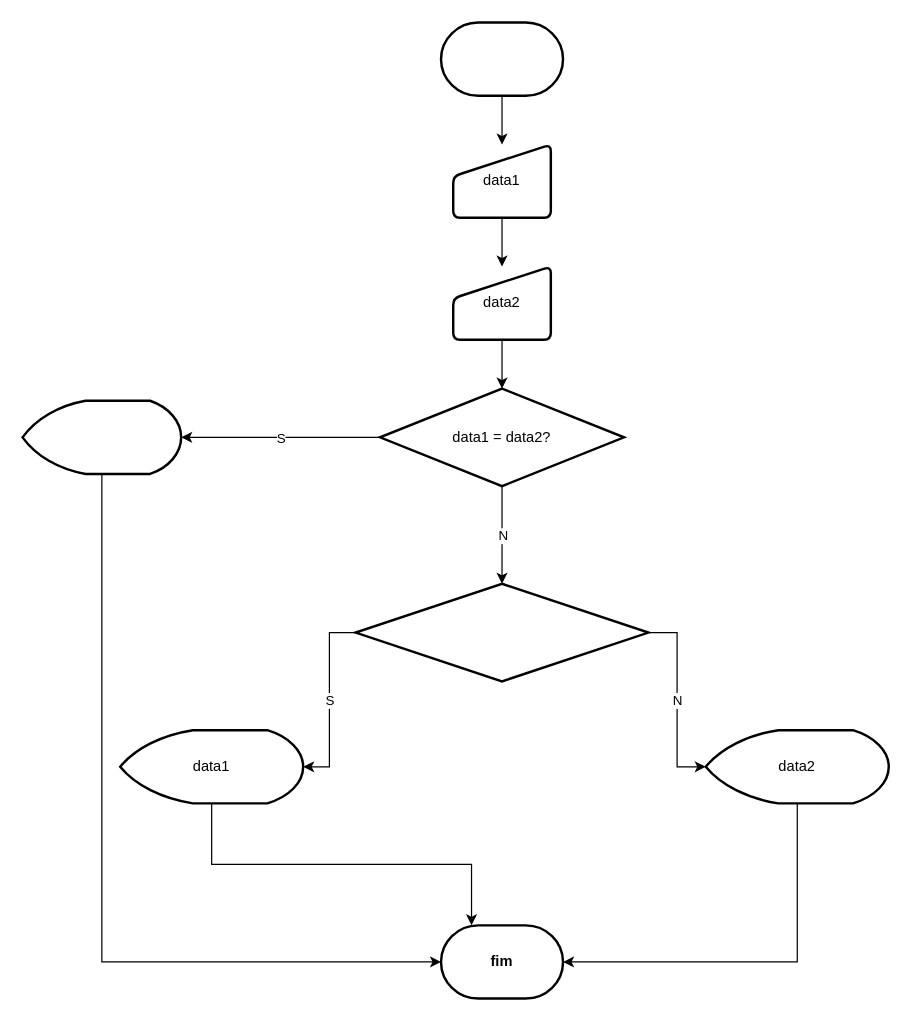
The diagram is 910 pixels wide and 1020 high, and some of its shapes have lost their labels. The box of each missing label's shape, as (x1, y1, x2, y2) in pixels:
data1 depois de data2?: (354, 582, 649, 682)
datas identicas: (21, 399, 182, 475)
inicio: (439, 21, 564, 96)
